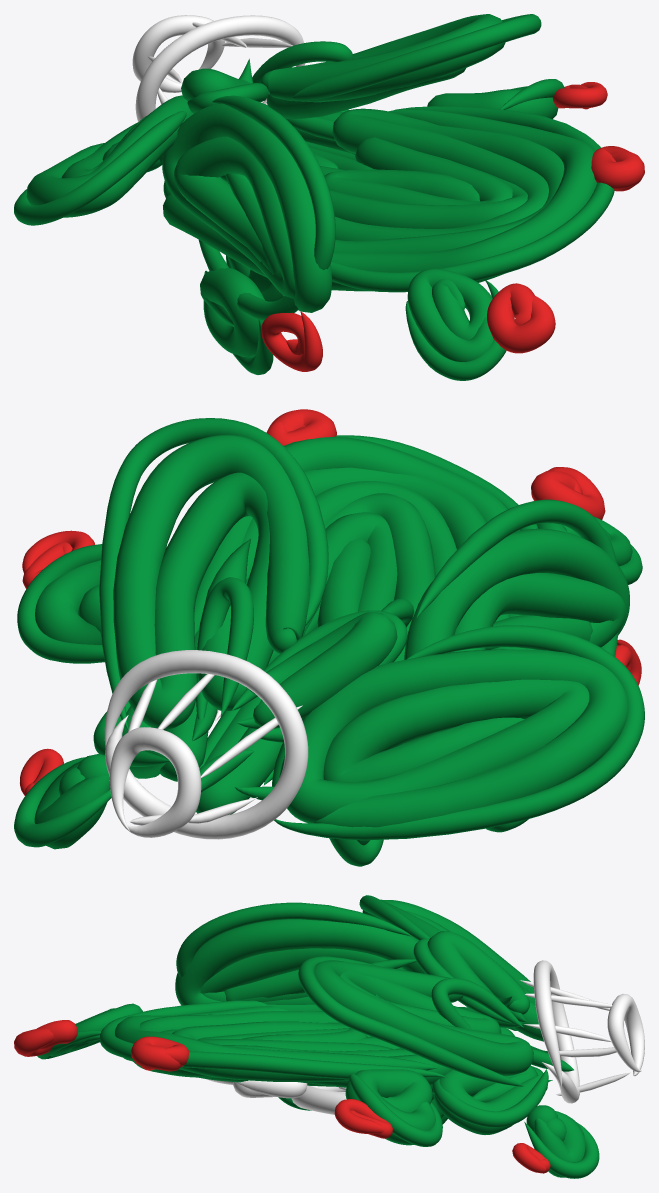
File: nopal001.glb
3 renders of one model, top to bottom at view 1: azimuth 30°, elevation 25°; view 2: azimuth 150°, elevation 25°; view 3: azimuth 270°, elevation 25°, orthographic. The views are drawn at different scales.
Parts seen in each view (by area): view 1: nopal.001; view 2: nopal.001; view 3: nopal.001.
Boxes of the visible parts, box(x1,y1,x2,y2) form: nopal.001: box(14, 14, 644, 380); nopal.001: box(14, 409, 644, 866); nopal.001: box(14, 895, 644, 1178).
Size of the model in its own units: 35.21 by 17.77 by 42.21.
1 material, 1 textured.
